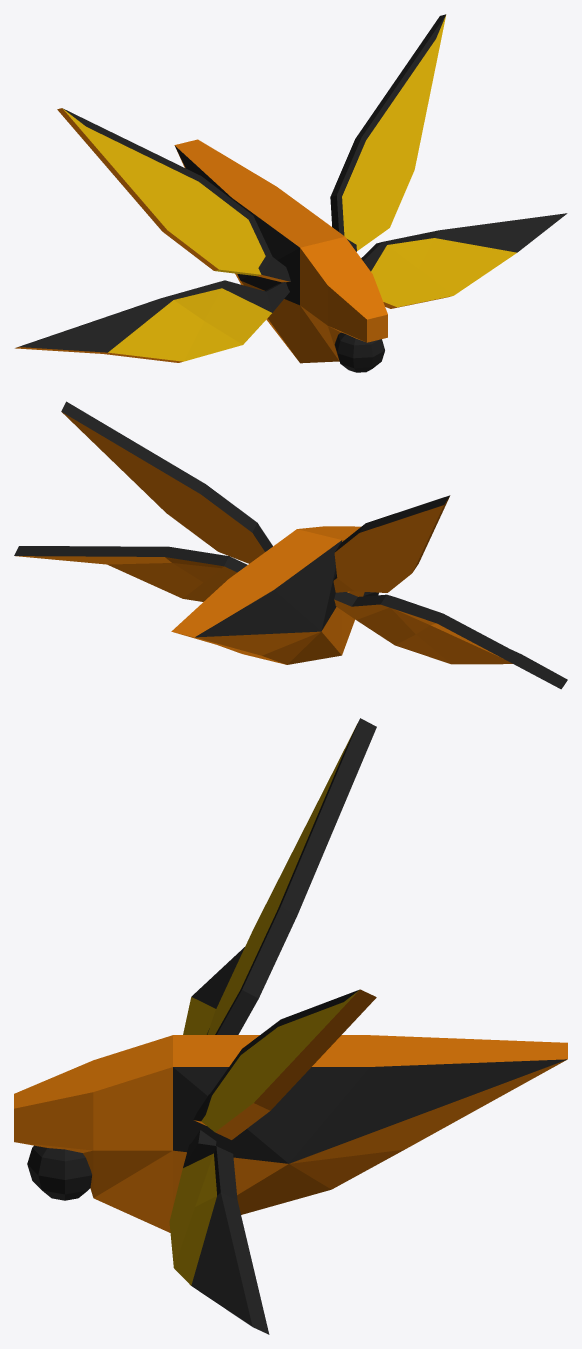
File: Butterfly.fbx
The picture shows the model from 3 angles, top to bottom: view 1: azimuth 30°, elevation 25°; view 2: azimuth 150°, elevation 25°; view 3: azimuth 270°, elevation 25°; orthographic projection. The views are drawn at different scales.
Parts seen in each view (by area): view 1: Butterfly; view 2: Butterfly; view 3: Butterfly.
Boxes of the visible parts, x1,y1,x2,y2 form: Butterfly: (15, 14, 567, 372); Butterfly: (14, 401, 567, 689); Butterfly: (14, 718, 567, 1334).
Size of the model in its own units: 719 by 313 by 434.
